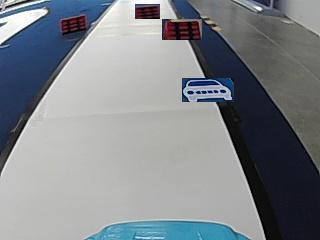bomb: (60, 13, 86, 33)
